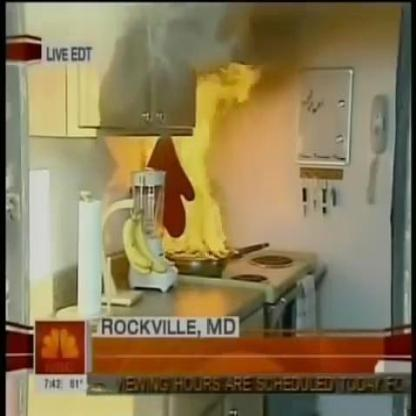fire: (157, 68, 258, 259)
